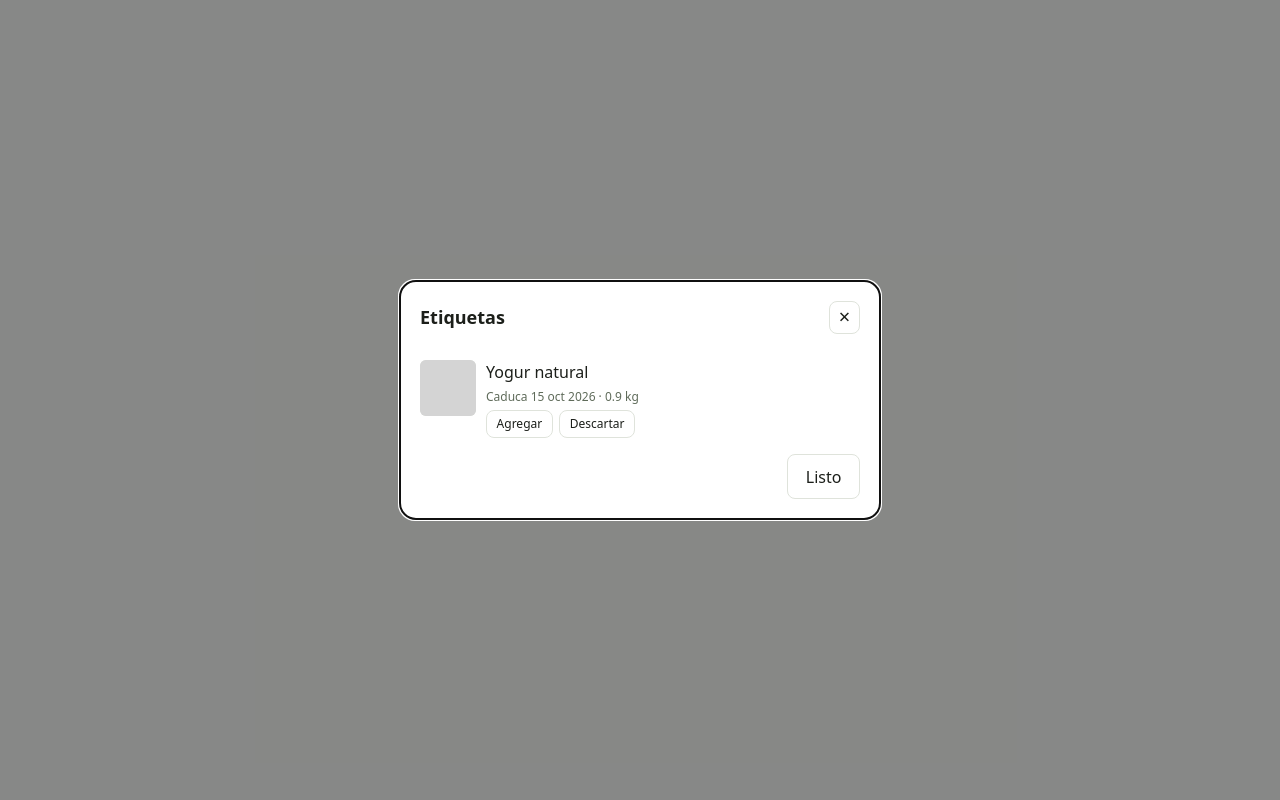
LabelQueueDialog adding › prefills the form with everything the label read
Click the button with aria-label "Agregar Yogur natural". click: x=519, y=424
box: [486, 410, 553, 438]
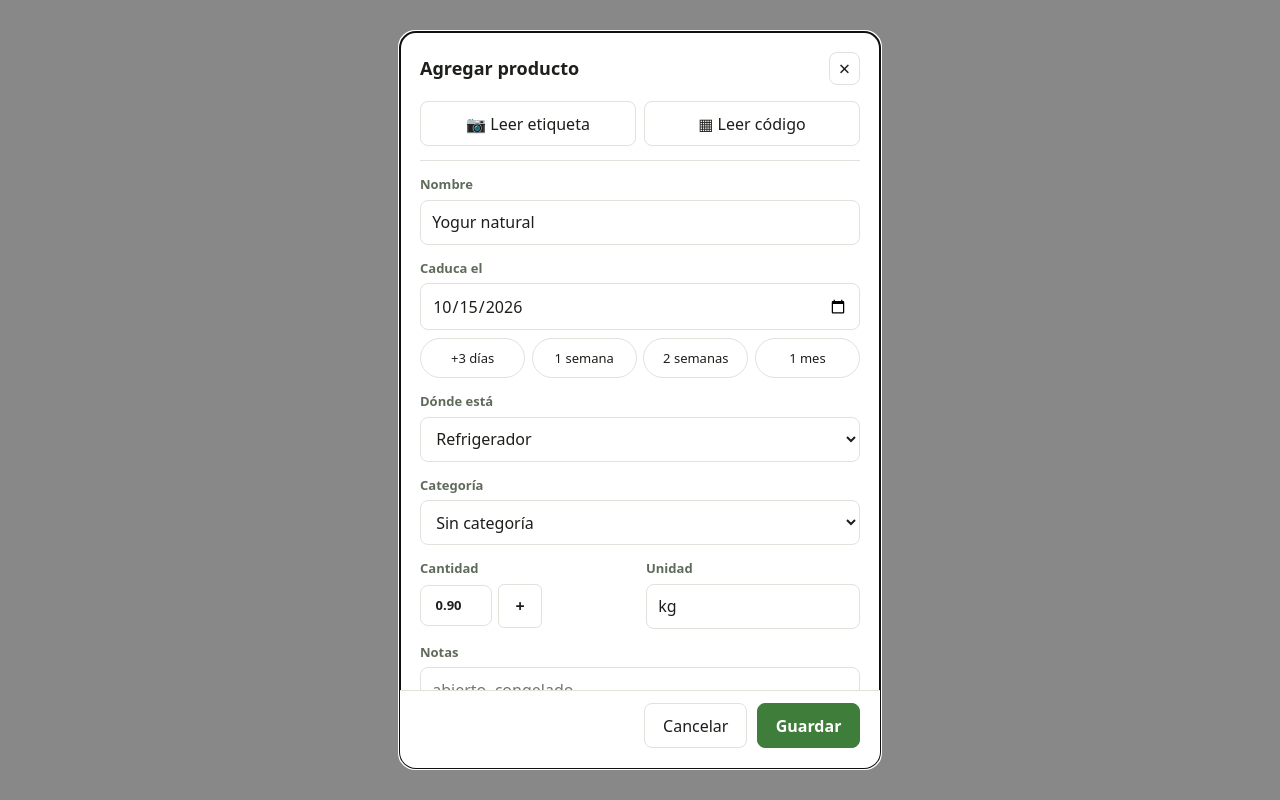
Now the field labelled "Nombre" holds "Yogur natural", box [420, 200, 860, 245]
Now the date field labelled "Caduca el" holds "2026-10-15", box [420, 283, 860, 330]
Now the number field labelled "Cantidad" holds "0.9", box [420, 585, 492, 626]
